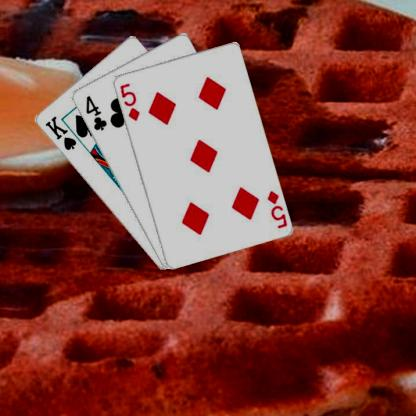4C: (83, 93, 108, 132)
5D: (264, 188, 288, 230), (116, 81, 140, 122)
KS: (42, 114, 77, 152)
